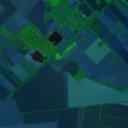alloviz: (46, 29, 63, 46), (29, 48, 47, 63)
